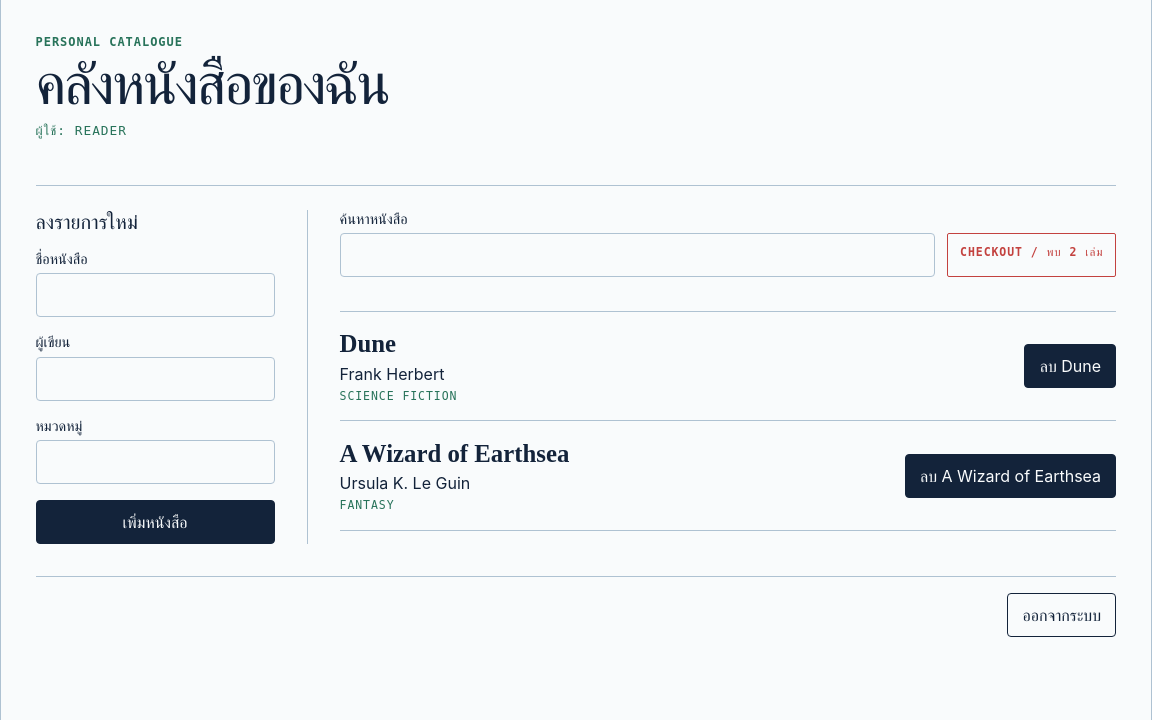
Test case: LibraryPage › keeps books and shows an actionable error when a mutation fails
Expected: the heading "Dune" is shown, [340,330,396,357]
Type "Kindred" into the field labelled "ชื่อหนังสือ" at coordinates (155, 295), box [36,273,274,317]
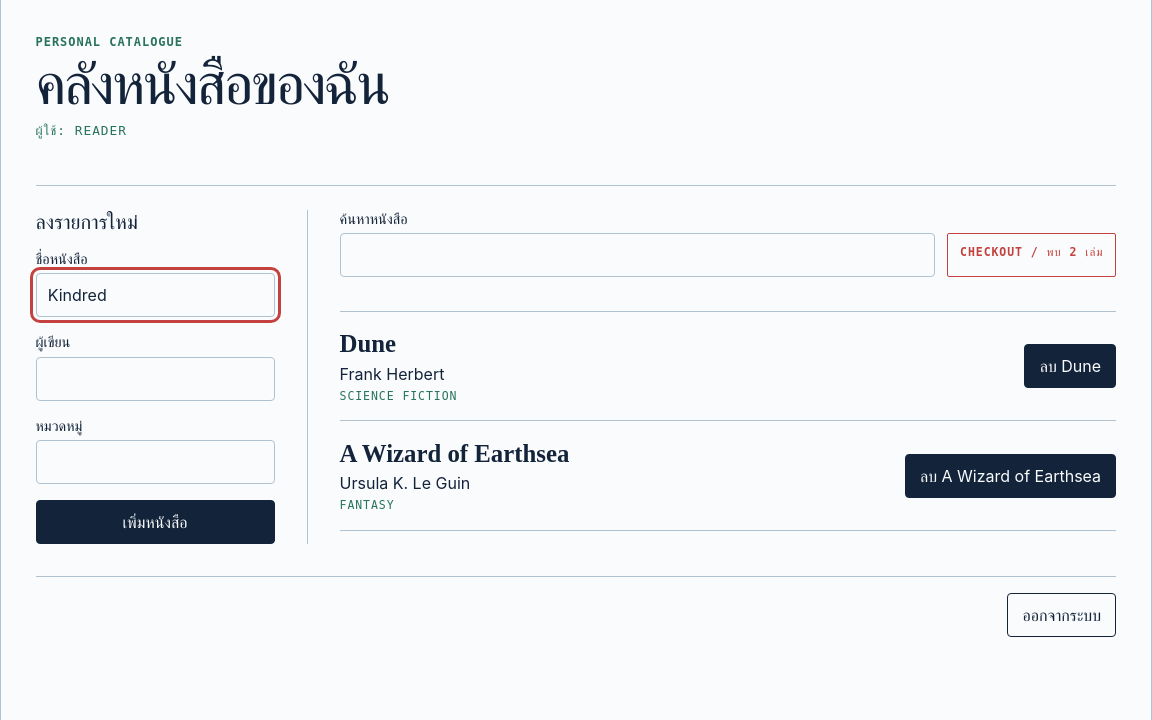
Type "Octavia E. Butler" into the field labelled "ผู้เขียน" at coordinates (155, 379), box [36,357,274,401]
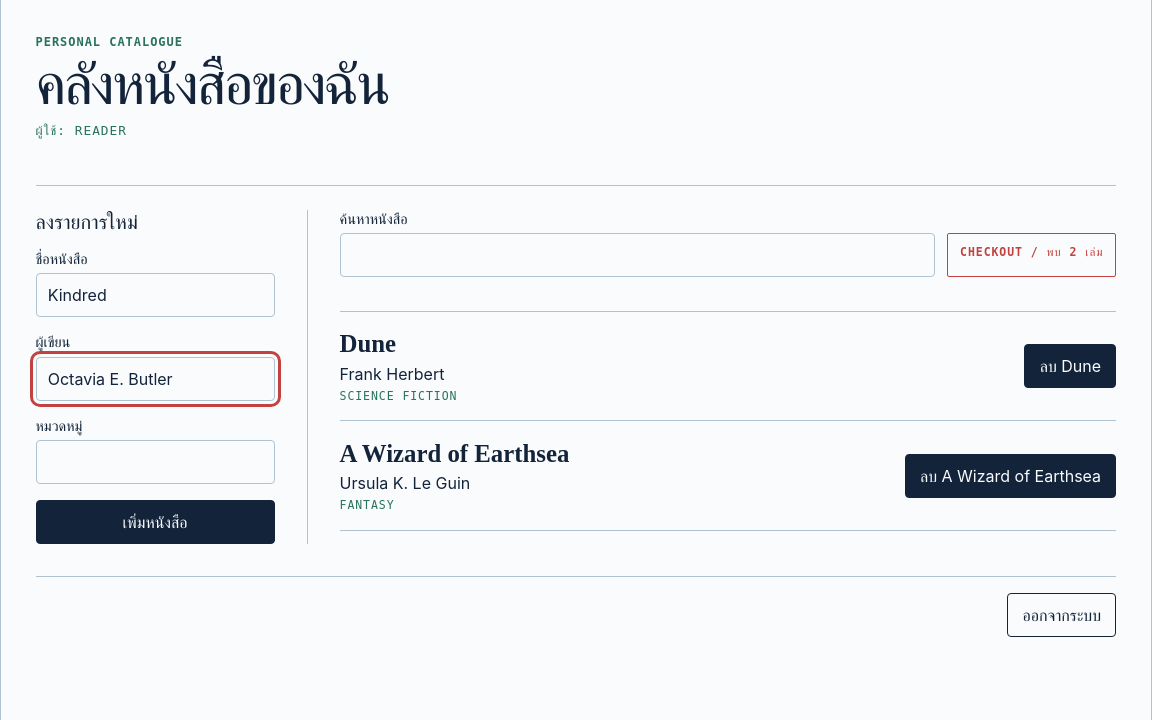
Type "Science Fiction" into the field labelled "หมวดหมู่" at coordinates (155, 462), box [36,440,274,484]
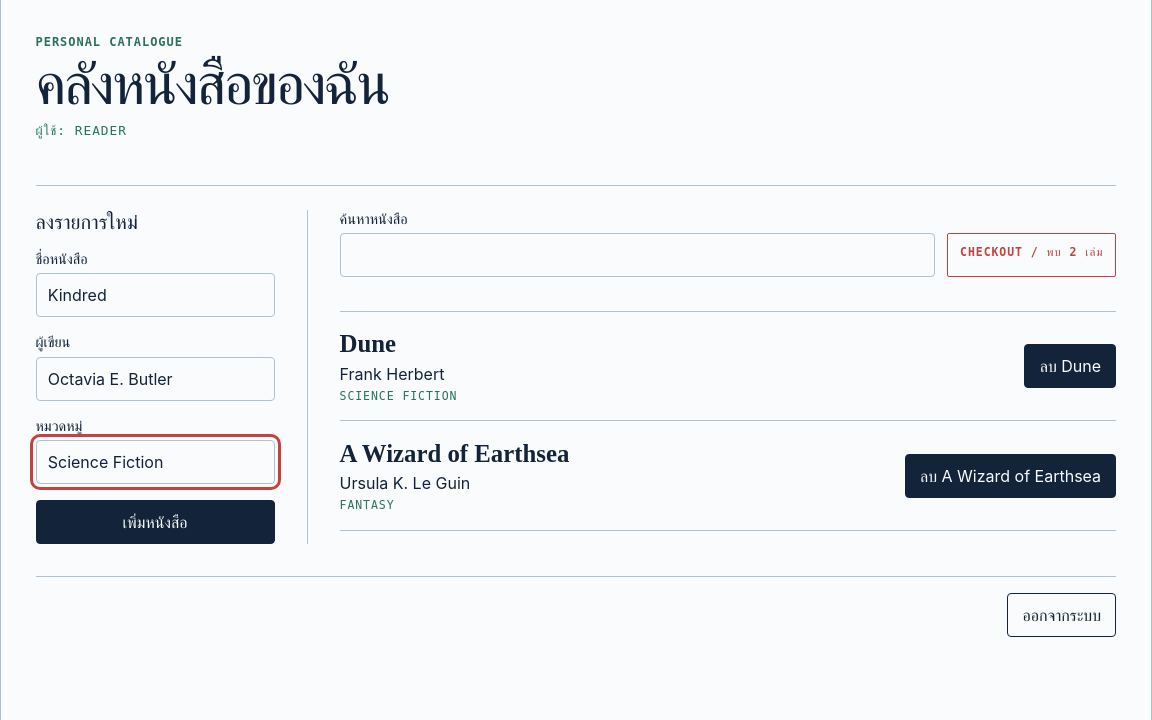
Click the button "เพิ่มหนังสือ" at coordinates (155, 522), box [36,500,274,544]
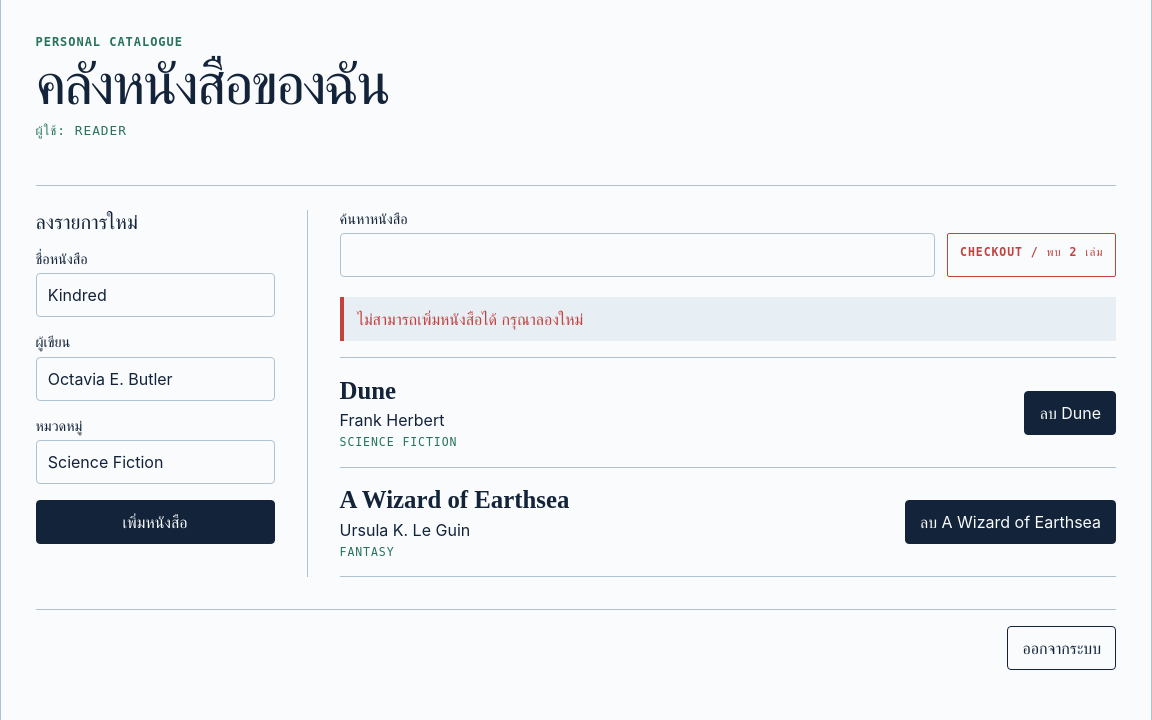
Expected: the heading "Dune" is shown, [340,377,396,404]
Now the message "ไม่สามารถเพิ่มหนังสือได้ กรุณาลองใหม่" is shown, box [340,297,1116,341]
